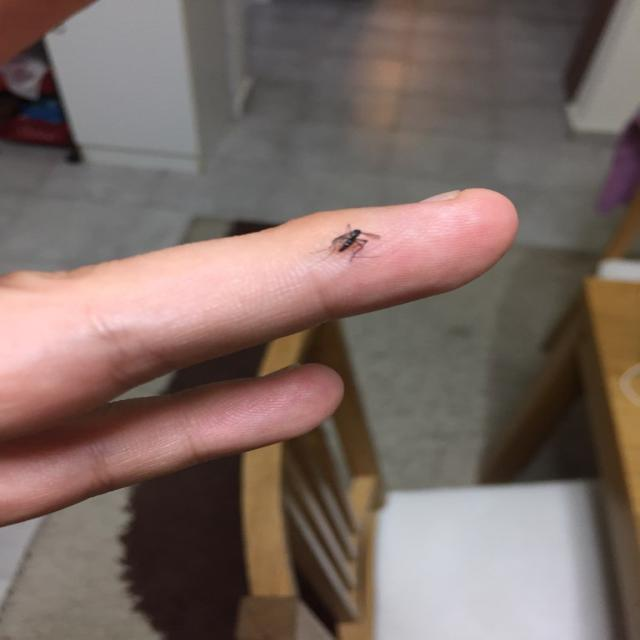albopictus: (308, 221, 384, 264)
